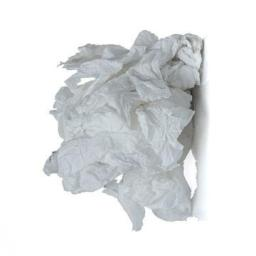Paper: (43, 35, 208, 231)
